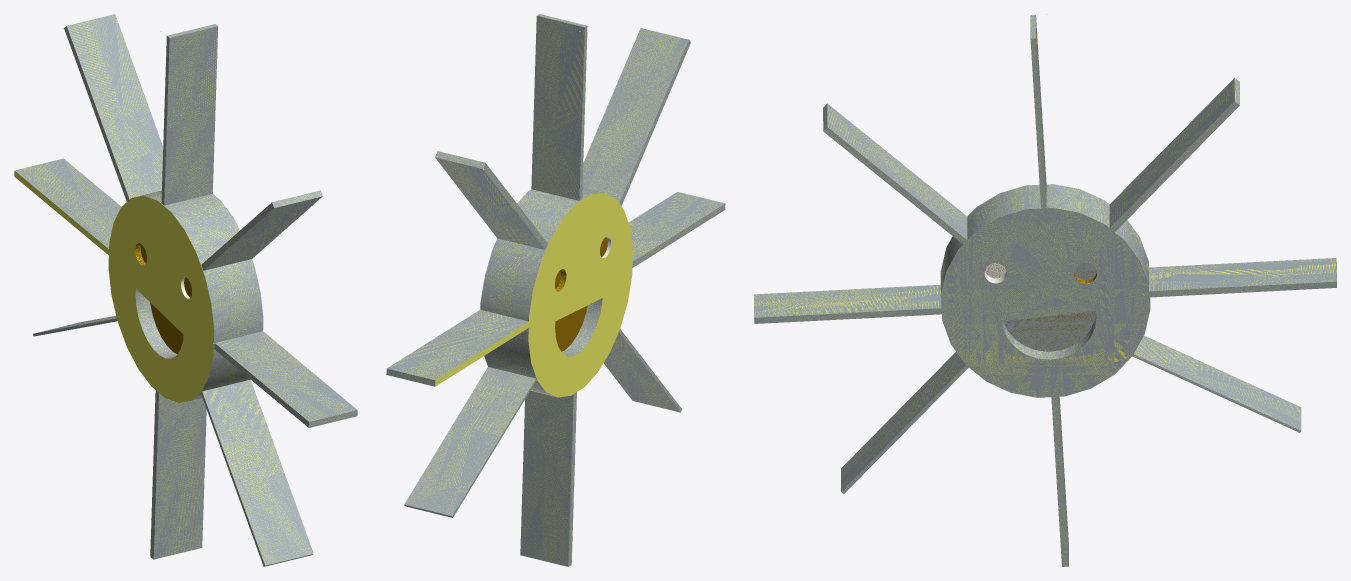
File: TheSun.fbx
3 renders of one model, left to right at view 1: azimuth 30°, elevation 25°; view 2: azimuth 150°, elevation 25°; view 3: azimuth 270°, elevation 25°, orthographic.
Visible parts, largest first — view 1: Model; view 2: Model; view 3: Model.
Part boxes in pixels (x1,y1,x2,y2): Model: [14, 14, 357, 566]; Model: [386, 14, 725, 566]; Model: [754, 14, 1336, 566].
Size of the model in its own units: 1.52 by 15.55 by 15.53.
